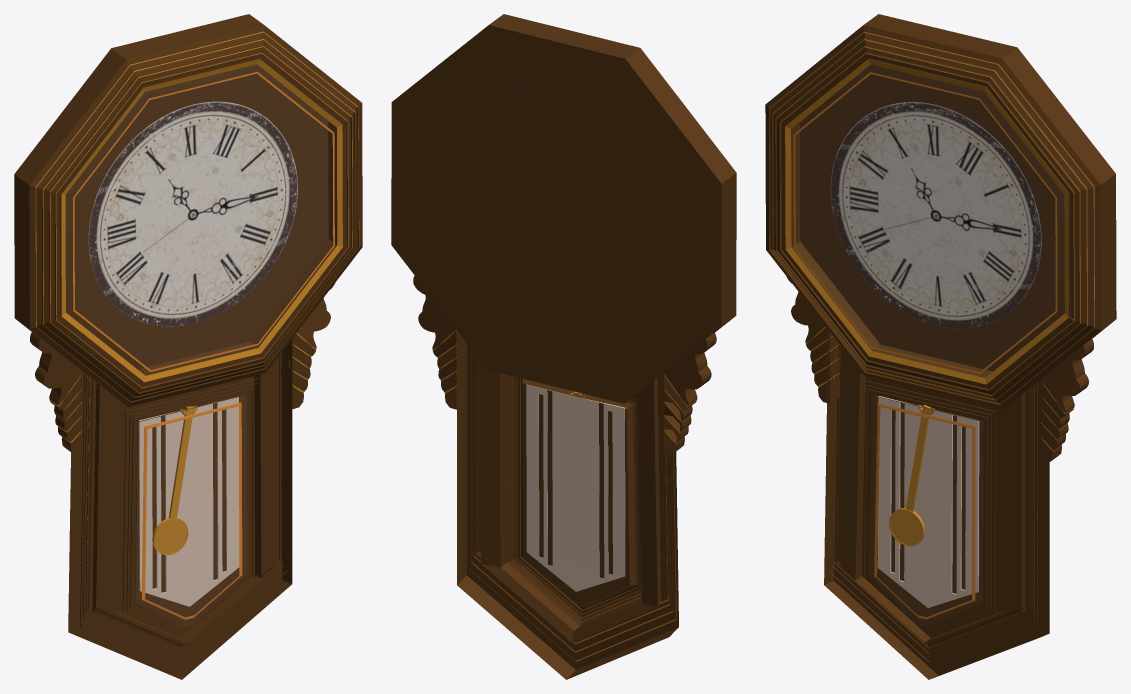
Rendered from clockD.glb.
The picture shows the model from 3 angles, left to right: view 1: azimuth 30°, elevation 25°; view 2: azimuth 150°, elevation 25°; view 3: azimuth 330°, elevation 25°; orthographic projection.
Parts seen in each view (by area): view 1: Object_4, Object_17, Object_27, Object_10; view 2: Object_4, Object_27, Object_10; view 3: Object_4, Object_17, Object_27, Object_10.
Boxes of the visible parts, bbox=[...] form: Object_4: bbox=[14, 14, 362, 679]; Object_17: bbox=[88, 101, 297, 326]; Object_27: bbox=[138, 397, 239, 606]; Object_10: bbox=[30, 282, 335, 455]; Object_4: bbox=[391, 14, 736, 679]; Object_27: bbox=[526, 384, 625, 591]; Object_10: bbox=[413, 275, 716, 455]; Object_4: bbox=[765, 14, 1116, 679]; Object_17: bbox=[830, 102, 1041, 328]; Object_27: bbox=[877, 396, 979, 607]; Object_10: bbox=[786, 276, 1093, 463].
Bounding box in the file's own units: 0.3355 × 0.6175 × 0.04.
Materials: 5 (5 with a texture image).
